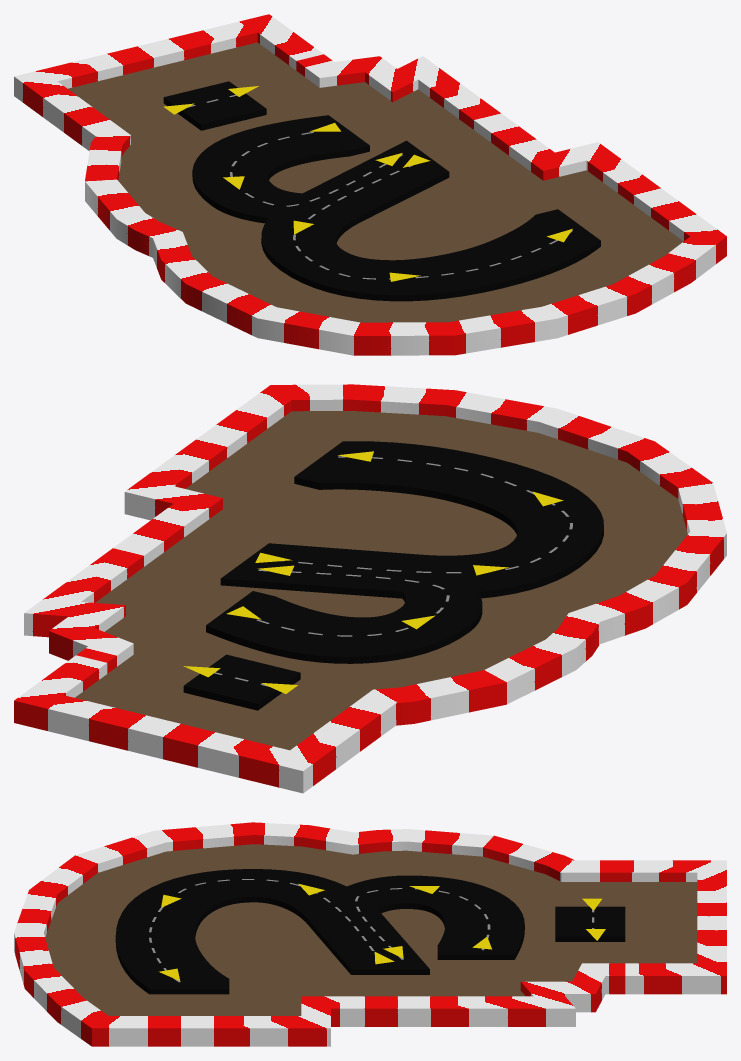
Rendered from ghain.FBX.
The picture shows the model from 3 angles, top to bottom: view 1: azimuth 30°, elevation 25°; view 2: azimuth 150°, elevation 25°; view 3: azimuth 270°, elevation 25°; orthographic projection. The views are drawn at different scales.
Parts seen in each view (by area): view 1: ghayn_floor, ghayn_coll, ghayn; view 2: ghayn_floor, ghayn_coll, ghayn; view 3: ghayn_floor, ghayn_coll, ghayn.
Boxes of the visible parts, box(x1,y1,x2,y2) form: ghayn_floor: box(68, 42, 683, 322); ghayn_coll: box(14, 14, 726, 355); ghayn: box(163, 81, 600, 301); ghayn_floor: box(75, 411, 687, 750); ghayn_coll: box(14, 384, 726, 793); ghayn: box(183, 441, 603, 710); ghayn_floor: box(45, 844, 697, 1015); ghayn_coll: box(14, 822, 726, 1046); ghayn: box(115, 869, 625, 994).
Bounding box in the file's own units: 791 × 32.79 × 1158.
